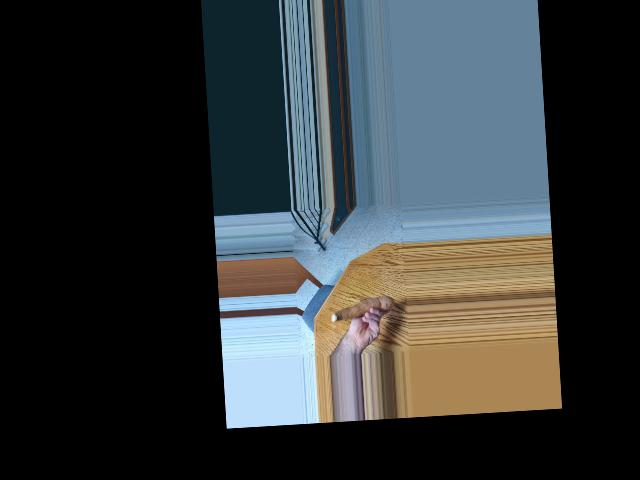sweet_potato: (332, 293, 392, 324)
